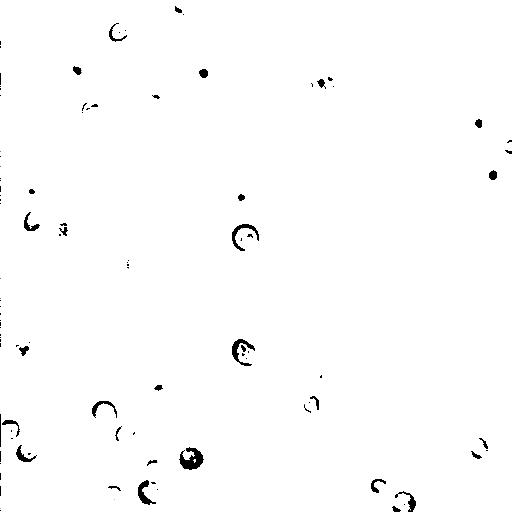micro-algae: (362, 12, 447, 98), (349, 440, 424, 512), (40, 95, 109, 164), (10, 82, 72, 146), (22, 337, 83, 398), (35, 117, 97, 176), (0, 31, 43, 104), (48, 416, 105, 470), (154, 339, 205, 394), (196, 389, 245, 437), (468, 50, 512, 102), (197, 347, 244, 393), (38, 0, 110, 29), (119, 391, 160, 430), (1, 478, 46, 512), (308, 62, 345, 98), (475, 157, 510, 194), (144, 377, 178, 409), (210, 10, 242, 43), (80, 96, 112, 128), (230, 222, 261, 253), (53, 186, 84, 215), (136, 479, 166, 508), (231, 336, 258, 367), (206, 0, 253, 17), (63, 59, 90, 87), (91, 398, 118, 426), (177, 446, 206, 472), (192, 58, 218, 86), (17, 178, 45, 203), (167, 0, 200, 21), (221, 441, 248, 466), (14, 438, 40, 463), (306, 356, 330, 383), (466, 110, 491, 134), (22, 209, 46, 234), (11, 338, 34, 364), (391, 490, 418, 512), (492, 310, 512, 339), (124, 250, 147, 275), (265, 91, 288, 114), (54, 218, 77, 241), (469, 436, 490, 460), (107, 22, 132, 42), (0, 418, 20, 442), (114, 423, 136, 444), (302, 393, 322, 415), (102, 484, 124, 501), (144, 458, 163, 475), (371, 477, 388, 496), (232, 190, 250, 206), (435, 66, 450, 85), (503, 138, 512, 154)
